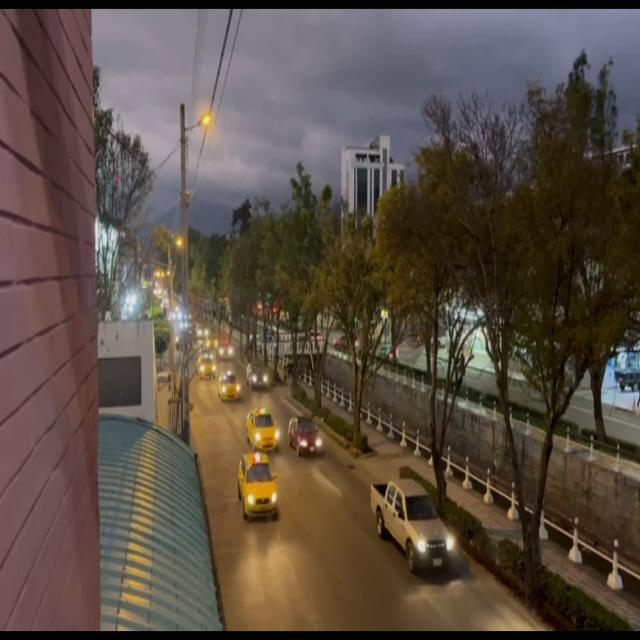CMT: (371, 480, 458, 578)
SED: (238, 453, 279, 521), (247, 408, 280, 453), (289, 416, 324, 458), (219, 374, 241, 404), (248, 363, 270, 390)
